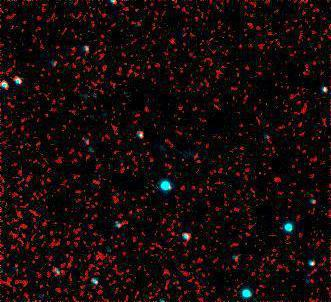star: (150, 28, 180, 58)
